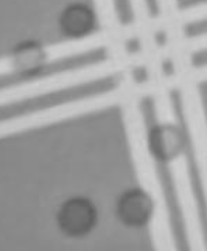cell: (54, 193, 99, 239), (143, 119, 189, 162), (113, 184, 156, 229), (9, 35, 49, 80), (57, 2, 96, 41)
